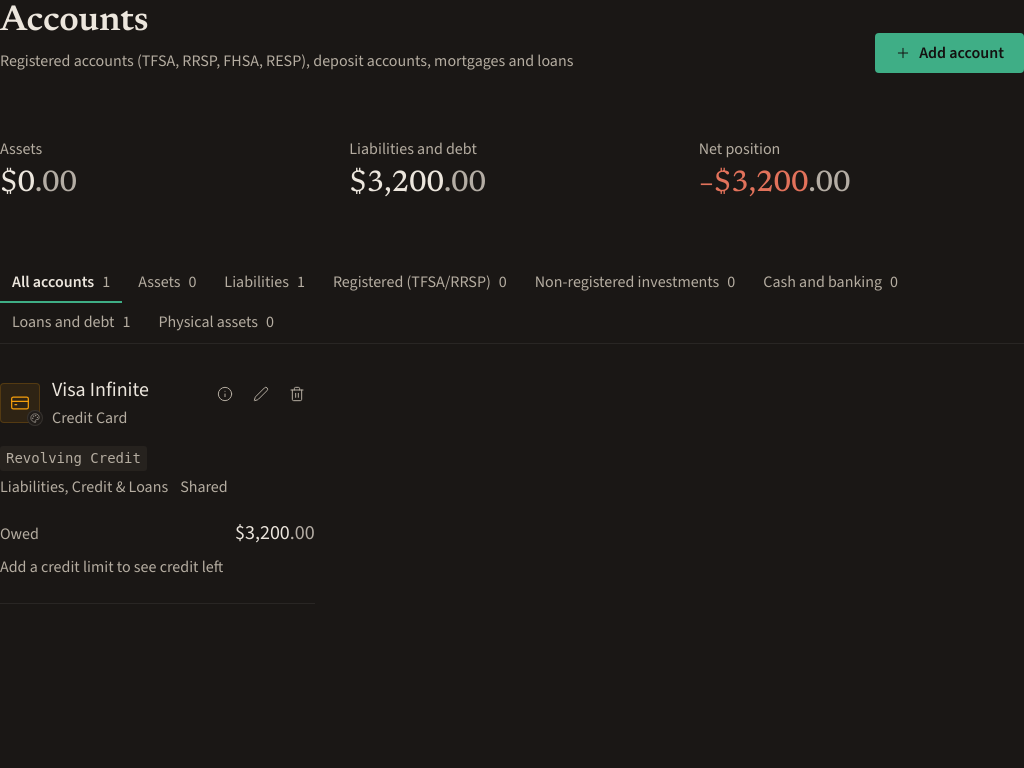
AccountsManagerView credit cards › invites adding a limit when there is none
The image size is (1024, 768).
Step 1. Click the button "Add a credit limit to see credit left" → (112,567), box [0,555,223,579]
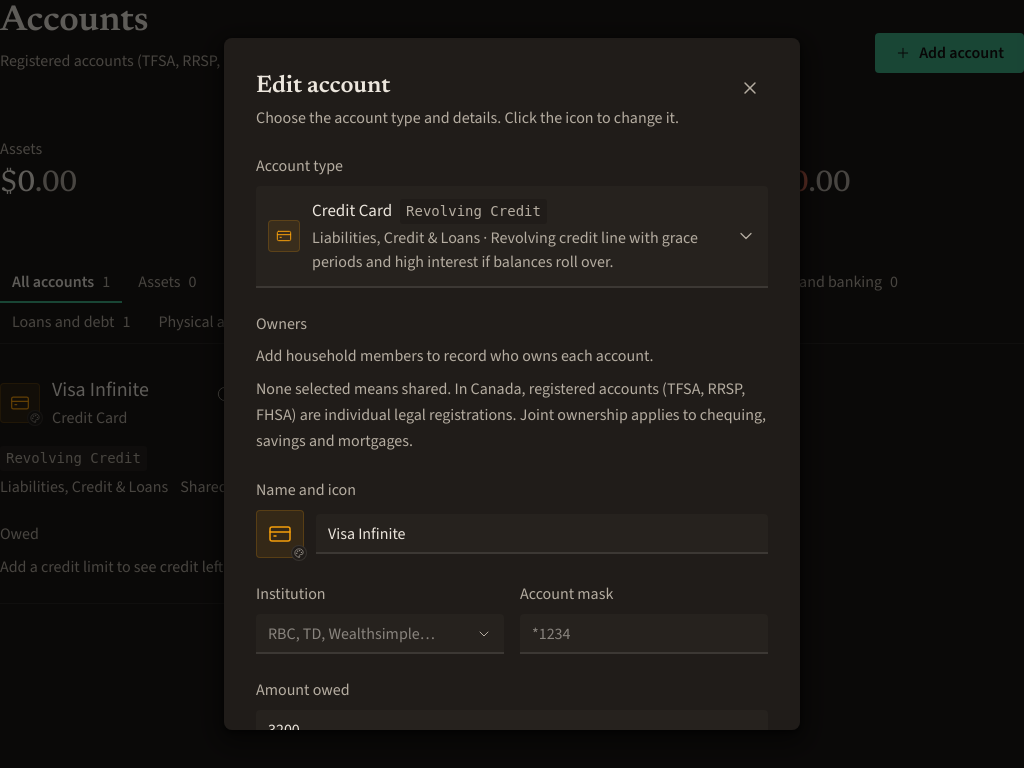
Result: the text "Amount owed" is shown at [256,679,350,700]
